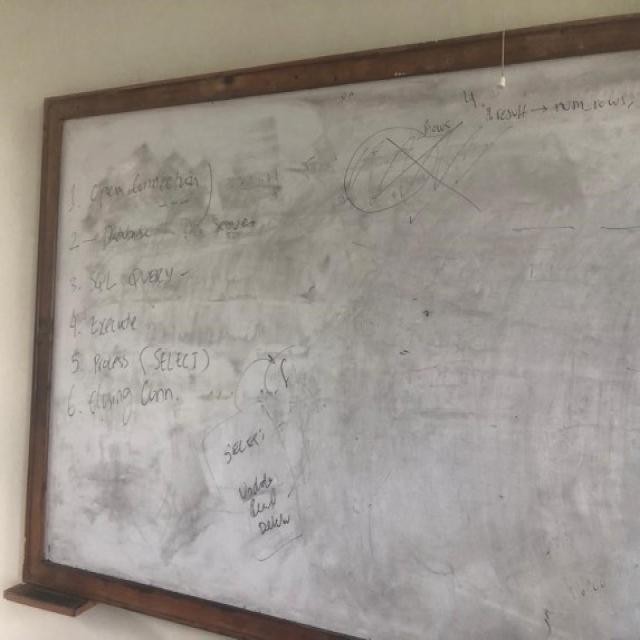White-board: (32, 40, 640, 640)
